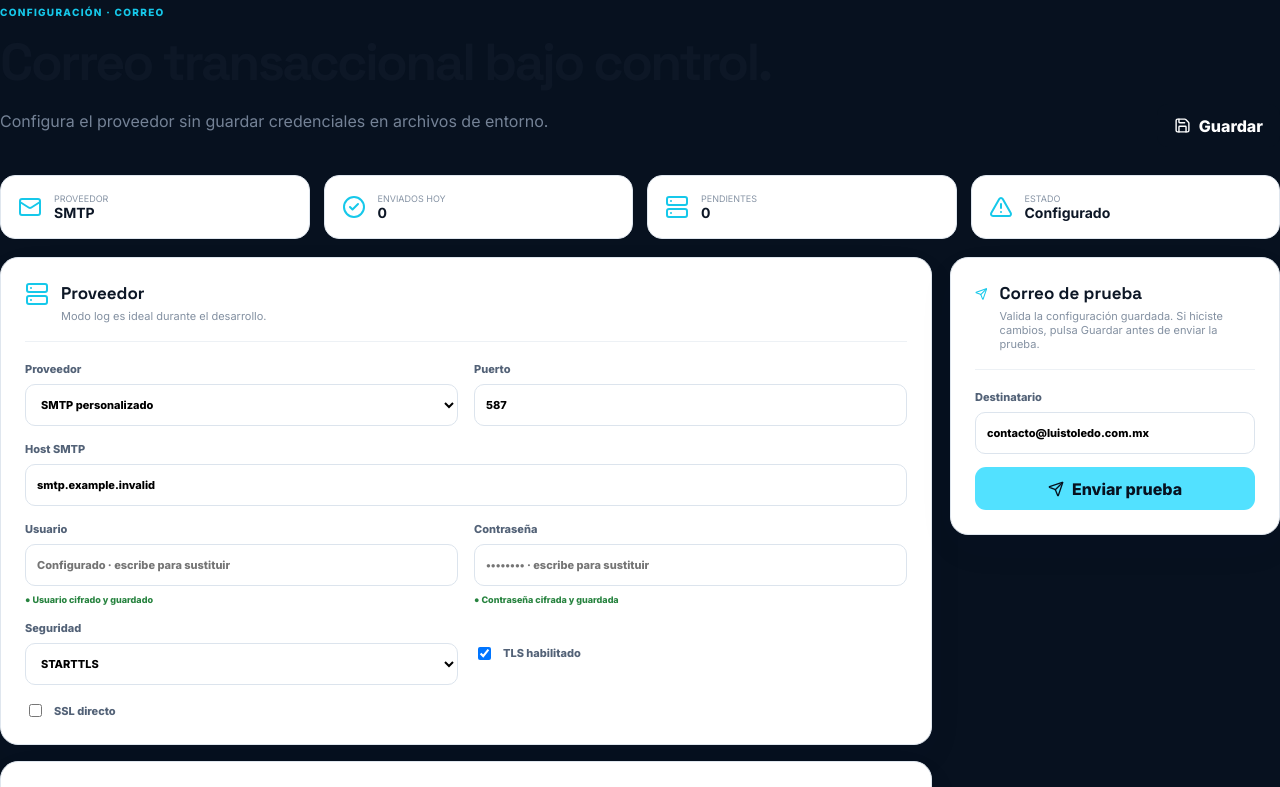
EmailSettings SMTP test › shows the actual error beside the test button and refreshes the status after failure
Click the button "Enviar prueba".
click(1115, 488)  # box [975,467,1255,510]
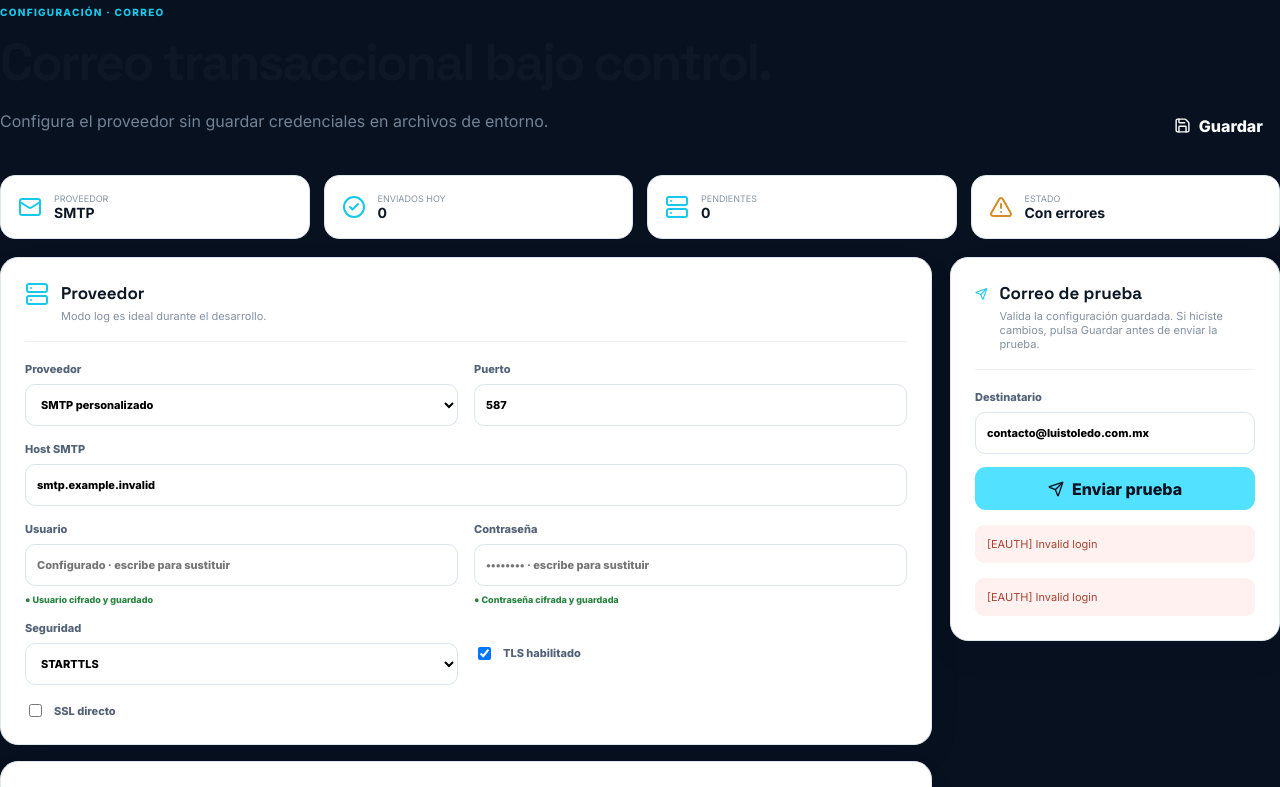
Expected: the message reads "[EAUTH] Invalid login", [987,537,1098,551]
Expected: the text "Con errores" is shown, [1024,204,1105,221]
